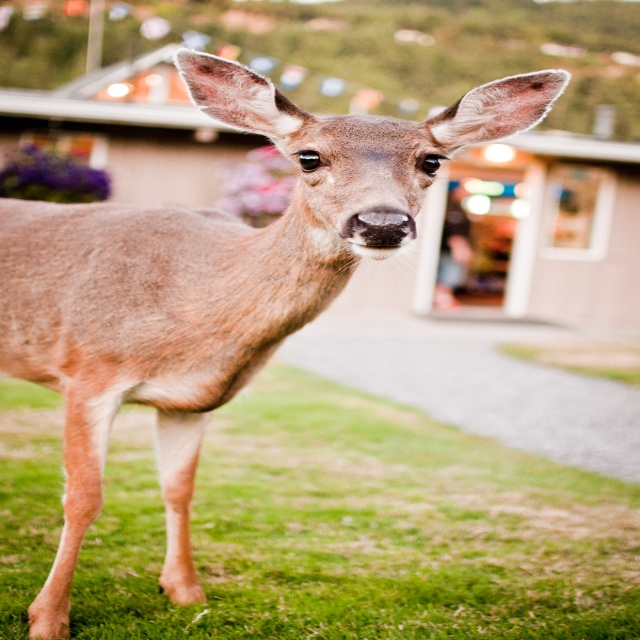Deer: (0, 50, 573, 640)
